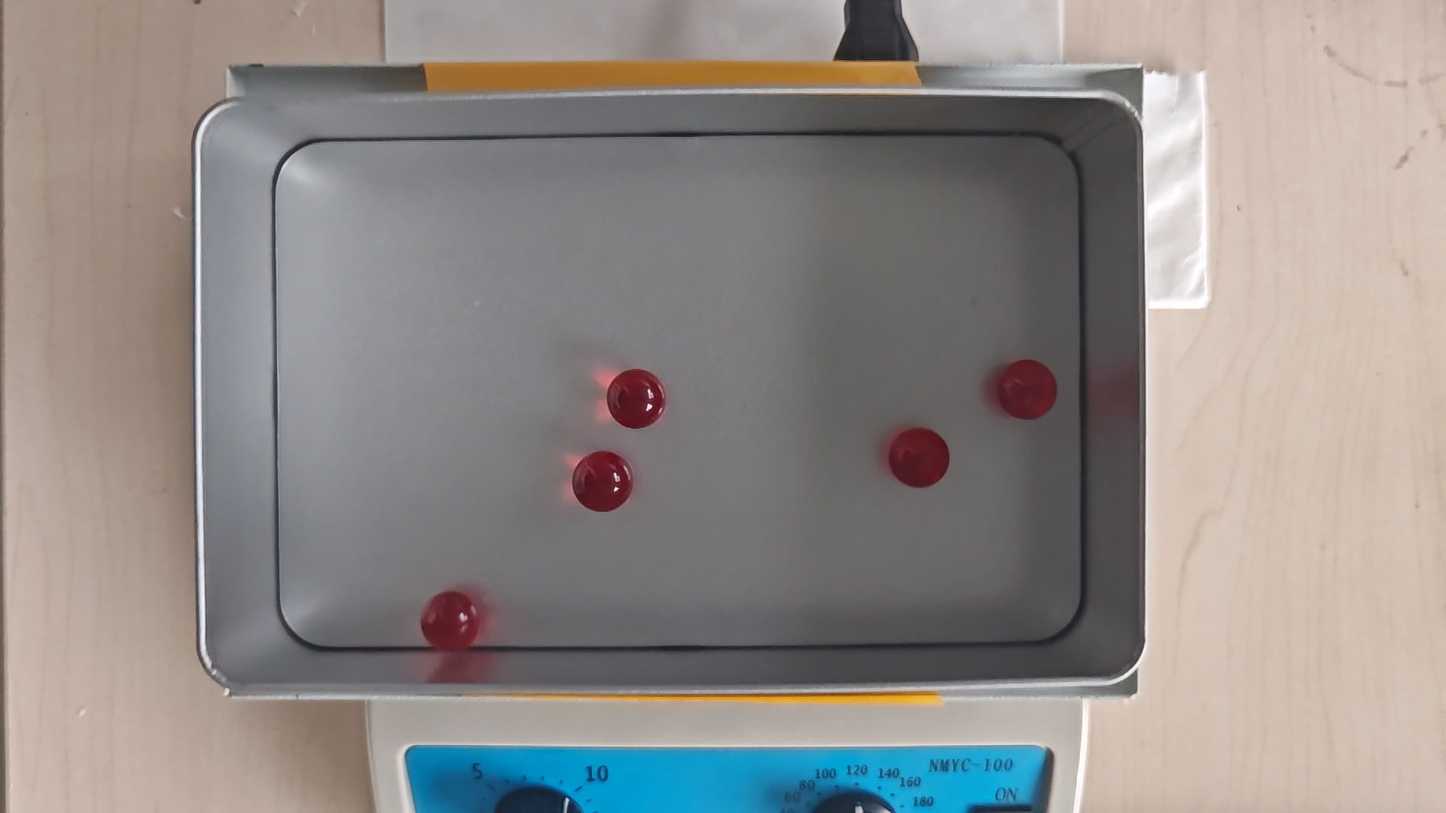ball: (996, 359, 1059, 422), (422, 591, 484, 654), (572, 450, 634, 513), (606, 367, 667, 431), (888, 429, 952, 489)
container: (270, 130, 1078, 652)
